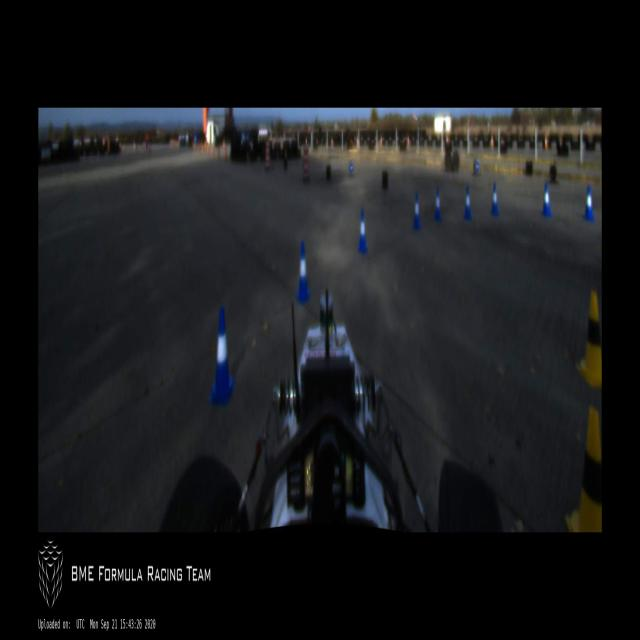blue_cone: (208, 306, 235, 406), (296, 240, 310, 305), (356, 208, 368, 252), (584, 186, 594, 222), (412, 192, 421, 230), (541, 183, 551, 217), (463, 184, 472, 220), (490, 182, 499, 217), (434, 188, 442, 220)
yellow_cone: (565, 408, 602, 532), (575, 292, 602, 388)
